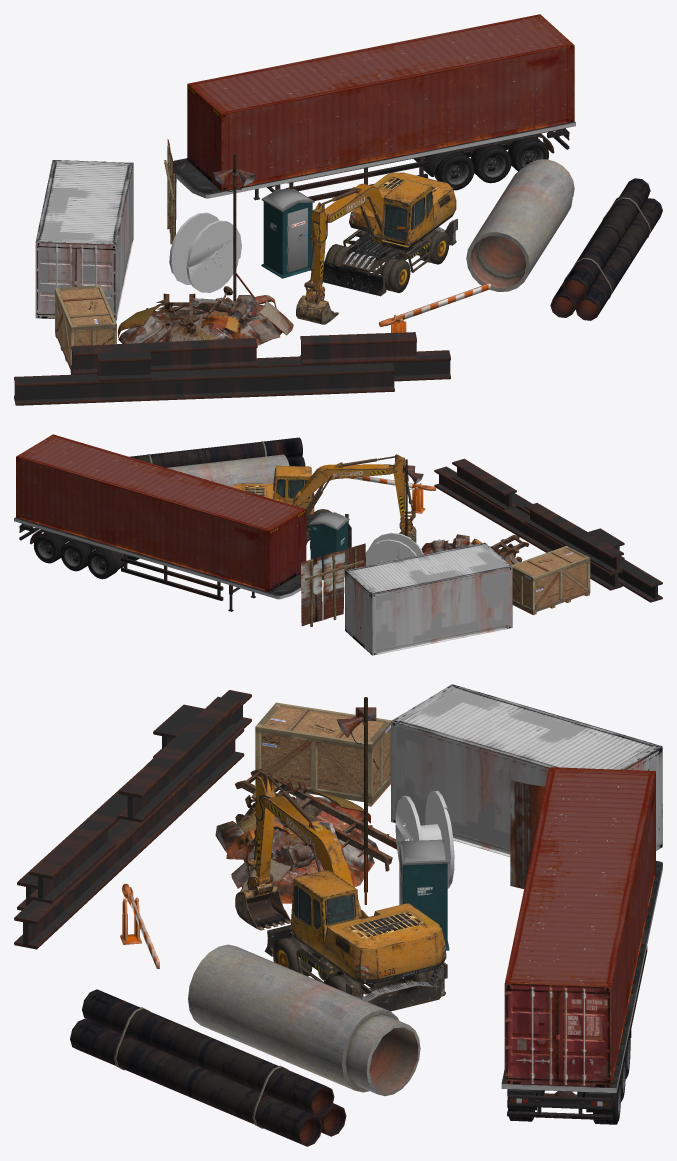
The model's file is Construction_objects.fbx.
The picture shows the model from 3 angles, top to bottom: view 1: azimuth 30°, elevation 25°; view 2: azimuth 150°, elevation 25°; view 3: azimuth 270°, elevation 25°; orthographic projection. The views are drawn at different scales.
Visible parts, largest first — view 1: SP_CSS_ShipingCont_1, SP_CCS_MetalBeams_1, SP_CSS_Excavator_1, SP_CSS_ShipingCont_2, SP_HWS_TrailerTruck_1, SP_CCS_ConcretePipe_1, SP_CCS_IronPipes_1, SP_JNK_ScrapPile_1, SP_CCS_CableReel_1, DP_CCS_Toilet_1, DP_CSS_WoodBox_1, SP_RST_Loudspeaker_1 (+2 smaller); view 2: SP_CSS_ShipingCont_1, SP_CSS_ShipingCont_2, SP_CCS_MetalBeams_1, SP_HWS_TrailerTruck_1, SP_CSS_Excavator_1, DP_CSS_WoodBox_1, DP_JNK_FenceRust_1, SP_CCS_IronPipes_1, SP_CCS_ConcretePipe_1, DP_CCS_Toilet_1, SP_CCS_CableReel_1, SP_JNK_ScrapPile_1 (+2 smaller); view 3: SP_CSS_ShipingCont_1, SP_CSS_ShipingCont_2, SP_CSS_Excavator_1, SP_CCS_ConcretePipe_1, SP_CCS_MetalBeams_1, SP_CCS_IronPipes_1, DP_CSS_WoodBox_1, SP_JNK_ScrapPile_1, SP_HWS_TrailerTruck_1, DP_CCS_Toilet_1, DP_JNK_FenceRust_1, SP_CCS_CableReel_1 (+2 smaller).
Boxes of the visible parts, bbox=[...] form: SP_CSS_ShipingCont_1: bbox=[187, 14, 574, 190]; SP_CCS_MetalBeams_1: bbox=[14, 332, 450, 405]; SP_CSS_Excavator_1: bbox=[296, 172, 457, 324]; SP_CSS_ShipingCont_2: bbox=[35, 160, 133, 321]; SP_HWS_TrailerTruck_1: bbox=[173, 121, 575, 200]; SP_CCS_ConcretePipe_1: bbox=[466, 159, 574, 291]; SP_CCS_IronPipes_1: bbox=[550, 178, 662, 320]; SP_JNK_ScrapPile_1: bbox=[117, 286, 293, 345]; SP_CCS_CableReel_1: bbox=[169, 212, 241, 292]; DP_CCS_Toilet_1: bbox=[261, 188, 314, 278]; DP_CSS_WoodBox_1: bbox=[55, 285, 116, 372]; SP_RST_Loudspeaker_1: bbox=[213, 153, 255, 301]; SP_CSS_ShipingCont_1: bbox=[16, 434, 306, 591]; SP_CSS_ShipingCont_2: bbox=[345, 542, 512, 655]; SP_CCS_MetalBeams_1: bbox=[434, 458, 662, 602]; SP_HWS_TrailerTruck_1: bbox=[14, 517, 300, 611]; SP_CSS_Excavator_1: bbox=[232, 454, 416, 549]; DP_CSS_WoodBox_1: bbox=[511, 546, 590, 615]; DP_JNK_FenceRust_1: bbox=[301, 543, 365, 626]; SP_CCS_IronPipes_1: bbox=[129, 437, 305, 467]; SP_CCS_ConcretePipe_1: bbox=[166, 454, 289, 486]; DP_CCS_Toilet_1: bbox=[309, 512, 349, 580]; SP_CCS_CableReel_1: bbox=[365, 532, 423, 565]; SP_JNK_ScrapPile_1: bbox=[421, 534, 529, 565]; SP_CSS_ShipingCont_1: bbox=[504, 767, 655, 1087]; SP_CSS_ShipingCont_2: bbox=[391, 684, 662, 856]; SP_CSS_Excavator_1: bbox=[235, 772, 447, 1011]; SP_CCS_ConcretePipe_1: bbox=[188, 944, 420, 1096]; SP_CCS_MetalBeams_1: bbox=[14, 690, 251, 949]; SP_CCS_IronPipes_1: bbox=[70, 989, 346, 1146]; DP_CSS_WoodBox_1: bbox=[255, 702, 391, 806]; SP_JNK_ScrapPile_1: bbox=[215, 768, 397, 903]; SP_HWS_TrailerTruck_1: bbox=[501, 860, 662, 1124]; DP_CCS_Toilet_1: bbox=[397, 839, 449, 950]; DP_JNK_FenceRust_1: bbox=[510, 780, 545, 888]; SP_CCS_CableReel_1: bbox=[395, 791, 454, 888].
Bounding box in the file's own units: 2397 × 506 × 1517.
